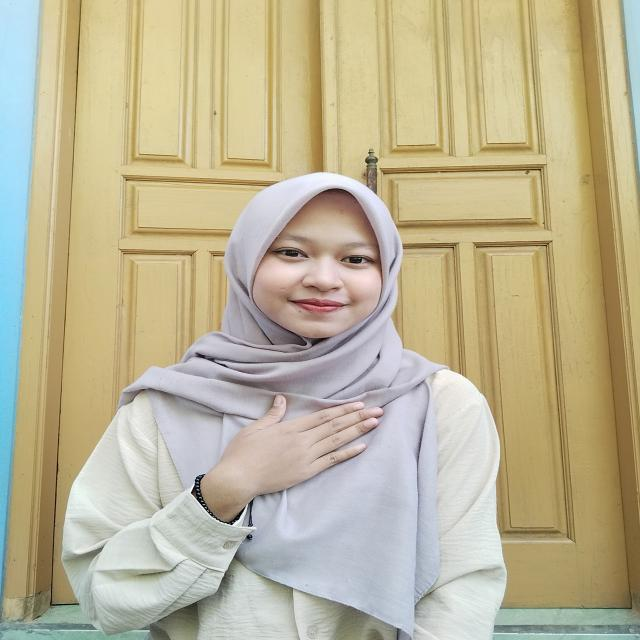tolong: (168, 390, 391, 536)
